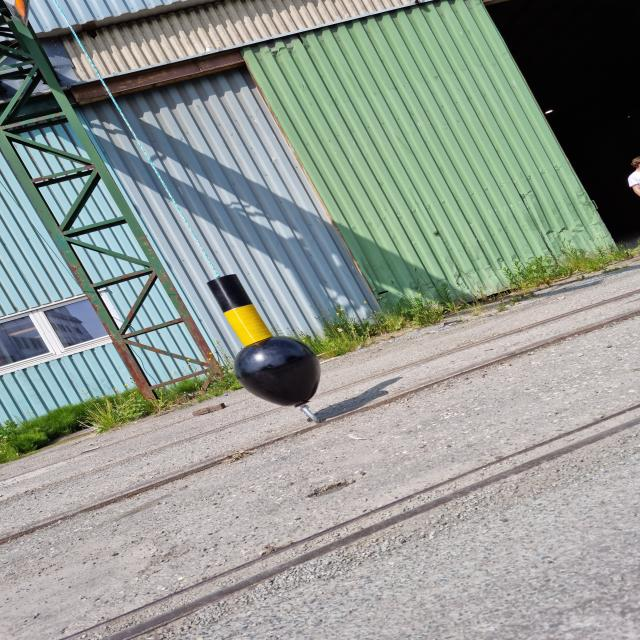east: (204, 274, 321, 406)
